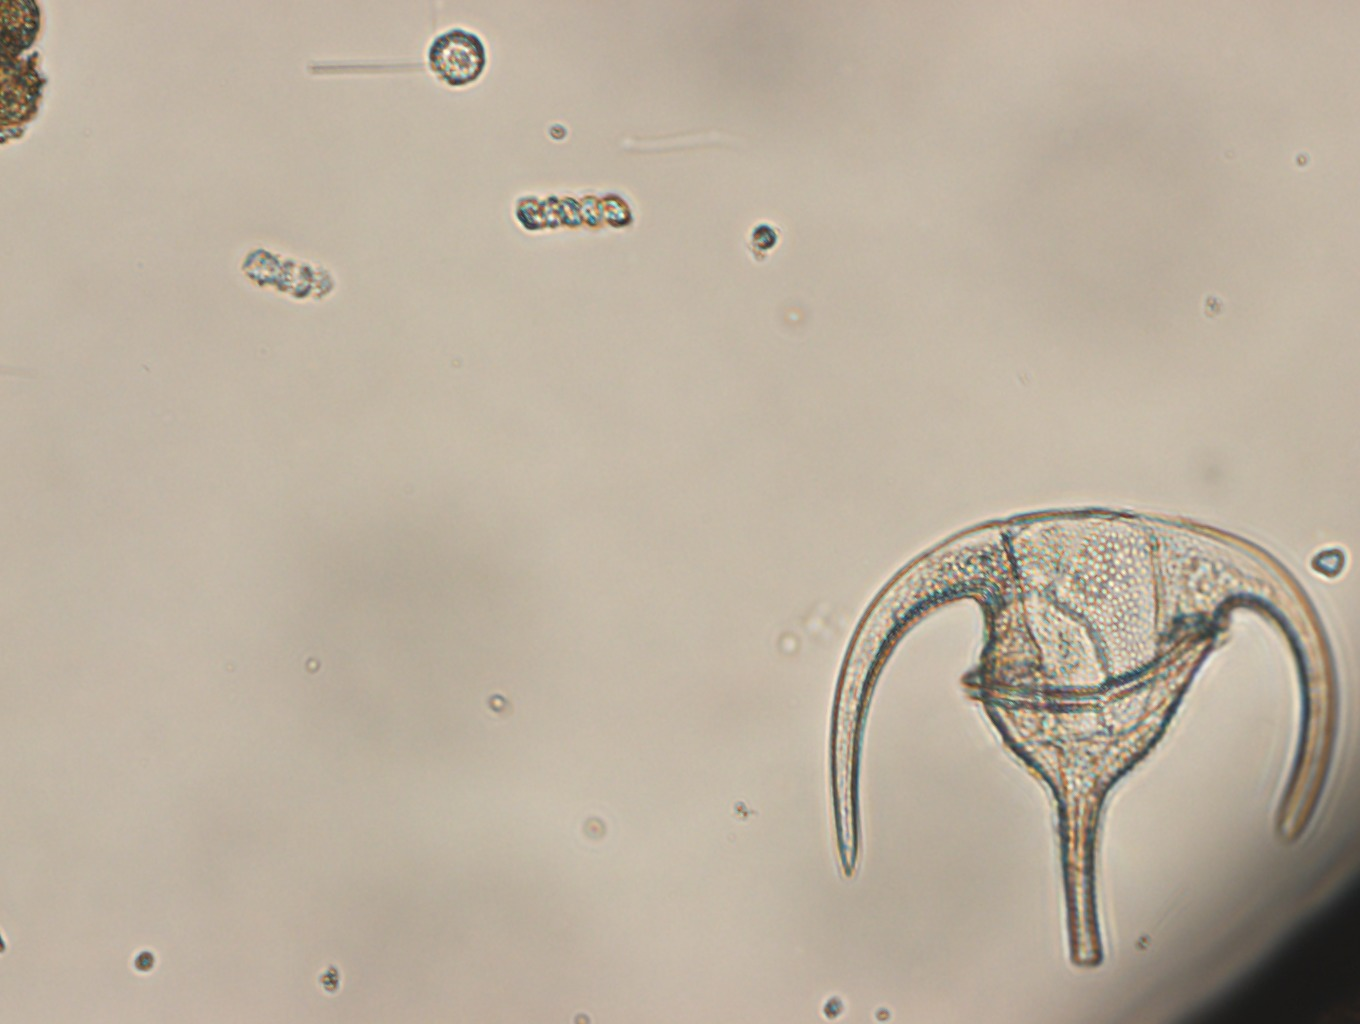ceratium tripos: (828, 504, 1341, 969)
